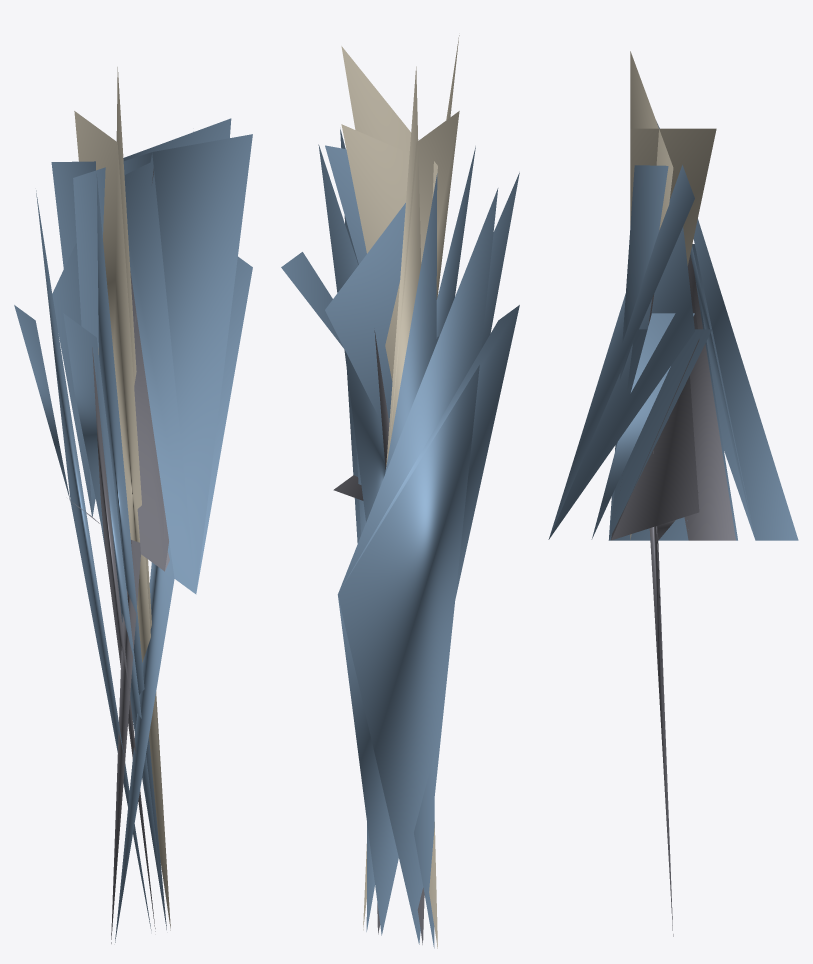
The model's file is player_idle.glb.
3 views of the same model, side by side, from view 1: azimuth 30°, elevation 25°; view 2: azimuth 150°, elevation 25°; view 3: azimuth 270°, elevation 25° (orthographic).
Parts seen in each view (by area): view 1: player_idle_node; view 2: player_idle_node; view 3: player_idle_node.
Boxes of the visible parts, x1,y1,x2,y2 form: player_idle_node: (14,67,252,943); player_idle_node: (281,35,519,948); player_idle_node: (548,51,798,936).
Size of the model in its own units: 0.58 by 2.3 by 0.58.
